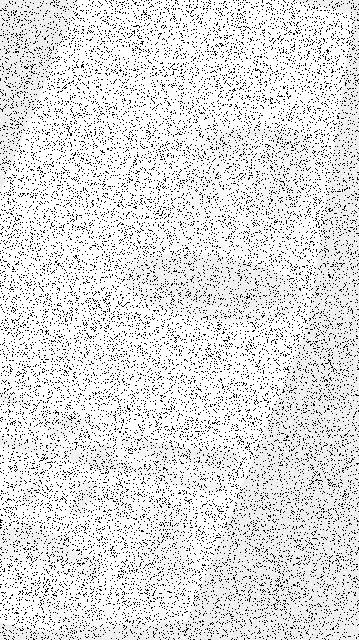pot: (117, 127, 328, 324)
